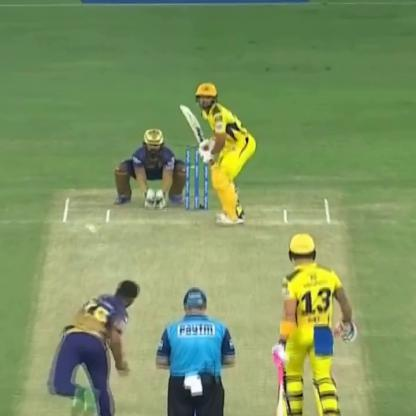ball: (81, 219, 102, 237)
bat: (175, 101, 216, 156)
pitch: (24, 182, 370, 416)
